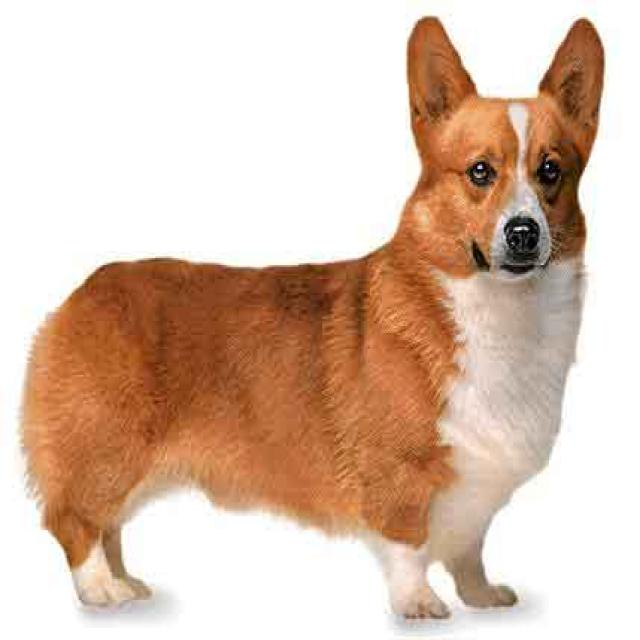CORGI: (16, 8, 602, 640)
